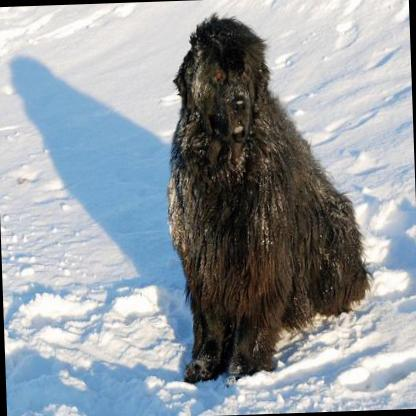Newfoundland: (149, 0, 382, 395)
